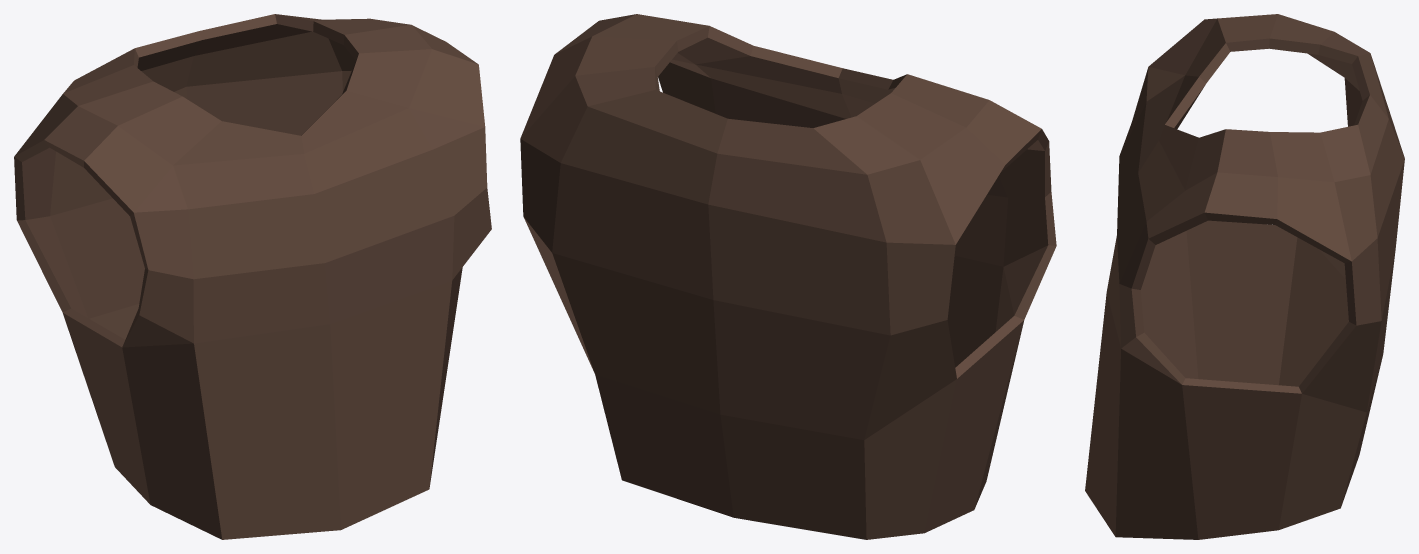
File: armor_leather.glb
3 renders of one model, left to right at view 1: azimuth 30°, elevation 25°; view 2: azimuth 150°, elevation 25°; view 3: azimuth 270°, elevation 25°, orthographic. The views are drawn at different scales.
Parts seen in each view (by area): view 1: Armor_Leather_Cylinder.048; view 2: Armor_Leather_Cylinder.048; view 3: Armor_Leather_Cylinder.048.
Boxes of the visible parts, x1=… form: Armor_Leather_Cylinder.048: x1=14, y1=14, x2=491, y2=539; Armor_Leather_Cylinder.048: x1=520, y1=14, x2=1056, y2=539; Armor_Leather_Cylinder.048: x1=1085, y1=14, x2=1404, y2=539.
Bounding box in the file's own units: 0.9754 × 0.9392 × 0.6704.
